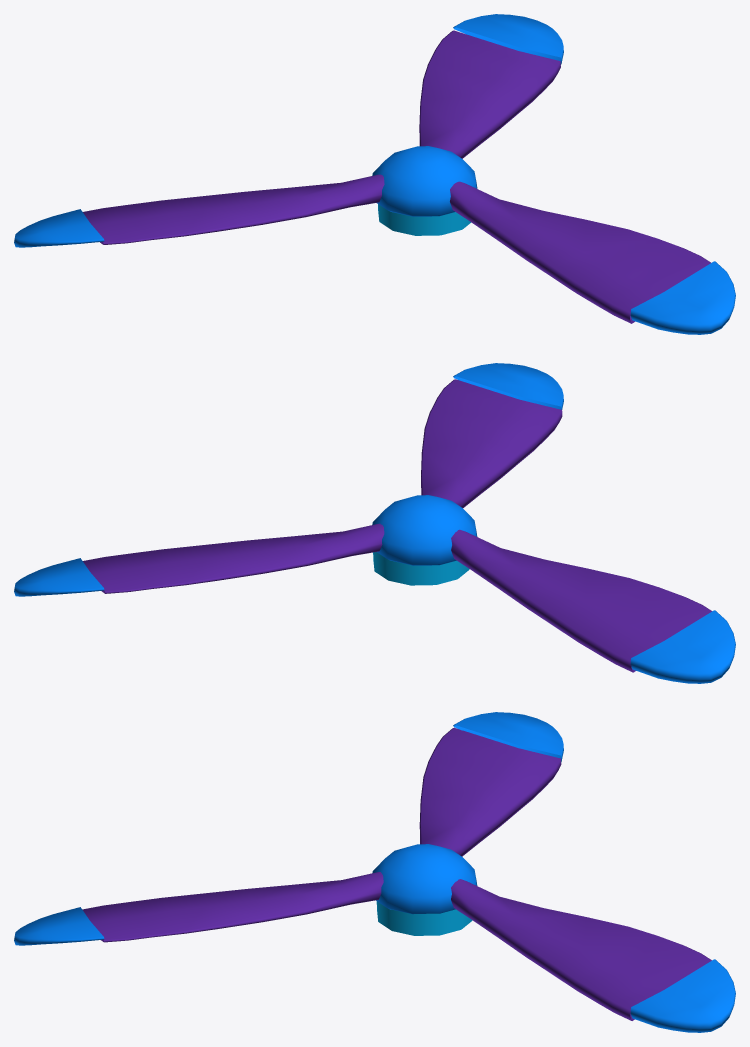
Rendered from JumboTronProPeller.fbx.
3 renders of one model, top to bottom at view 1: azimuth 30°, elevation 25°; view 2: azimuth 150°, elevation 25°; view 3: azimuth 270°, elevation 25°, orthographic.
Parts seen in each view (by area): view 1: PRP_FloatingCam_Propeller_0, PRP_FloatingCam_Propeller_1, PRP_FloatingCam_Propeller_2; view 2: PRP_FloatingCam_Propeller_0, PRP_FloatingCam_Propeller_1, PRP_FloatingCam_Propeller_2; view 3: PRP_FloatingCam_Propeller_0, PRP_FloatingCam_Propeller_1, PRP_FloatingCam_Propeller_2.
Part boxes in pixels (<box>): PRP_FloatingCam_Propeller_0: <box>83,30,710,323</box>; PRP_FloatingCam_Propeller_1: <box>14,14,735,334</box>; PRP_FloatingCam_Propeller_2: <box>378,204,470,235</box>; PRP_FloatingCam_Propeller_0: <box>83,379,711,672</box>; PRP_FloatingCam_Propeller_1: <box>14,363,735,683</box>; PRP_FloatingCam_Propeller_2: <box>373,552,469,585</box>; PRP_FloatingCam_Propeller_0: <box>82,727,711,1020</box>; PRP_FloatingCam_Propeller_1: <box>14,712,735,1032</box>; PRP_FloatingCam_Propeller_2: <box>376,901,472,935</box>.
Size of the model in its own units: 16.16 by 1.61 by 16.24.
